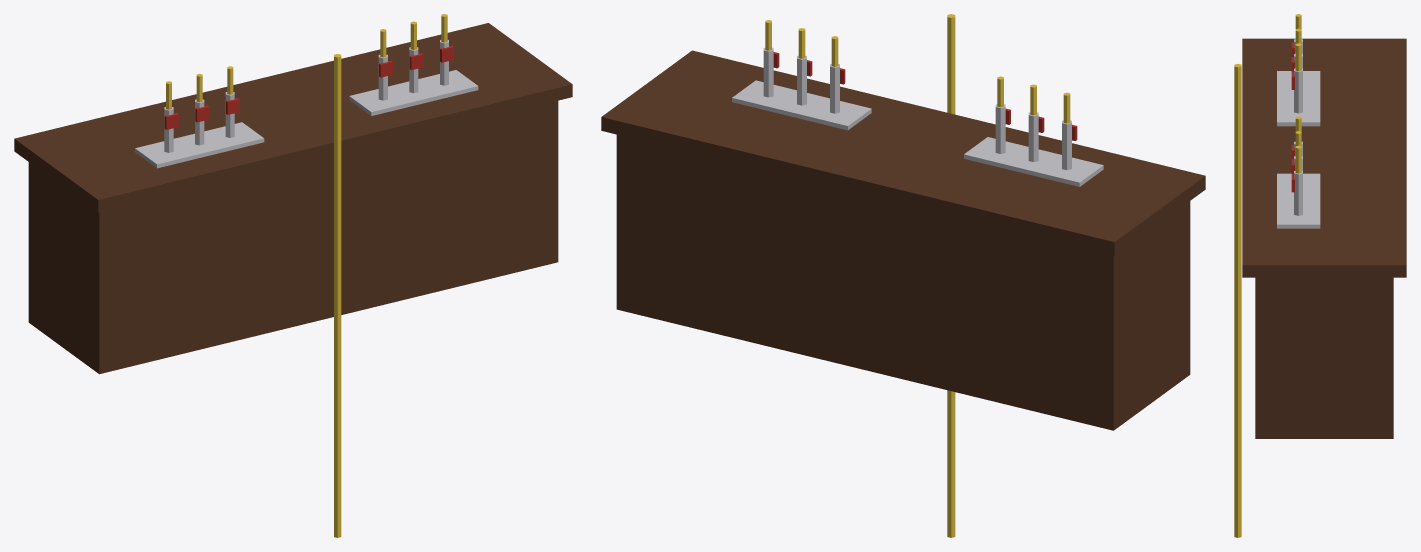
File: interior_pub_bar.glb
3 views of the same model, side by side, from view 1: azimuth 30°, elevation 25°; view 2: azimuth 150°, elevation 25°; view 3: azimuth 270°, elevation 25° (orthographic). The views are drawn at different scales.
Visible parts, largest first — view 1: interior_pub_bar; view 2: interior_pub_bar; view 3: interior_pub_bar.
Part boxes in pixels (box(x1,y1,x2,y2)): interior_pub_bar: box(14, 14, 572, 537); interior_pub_bar: box(601, 14, 1205, 537); interior_pub_bar: box(1234, 14, 1406, 537).
Bounding box in the file's own units: 3.1 × 3 × 0.9967.
Materials: 1 (1 with a texture image).
